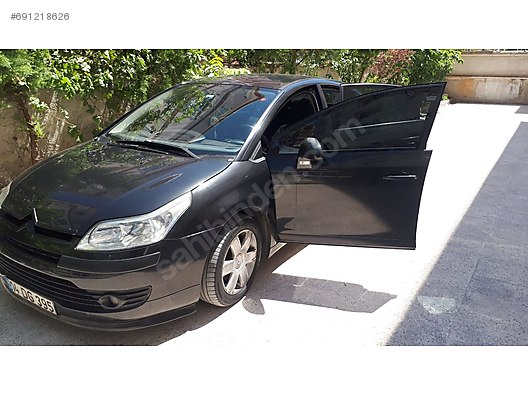citroen: (1, 62, 327, 333)
